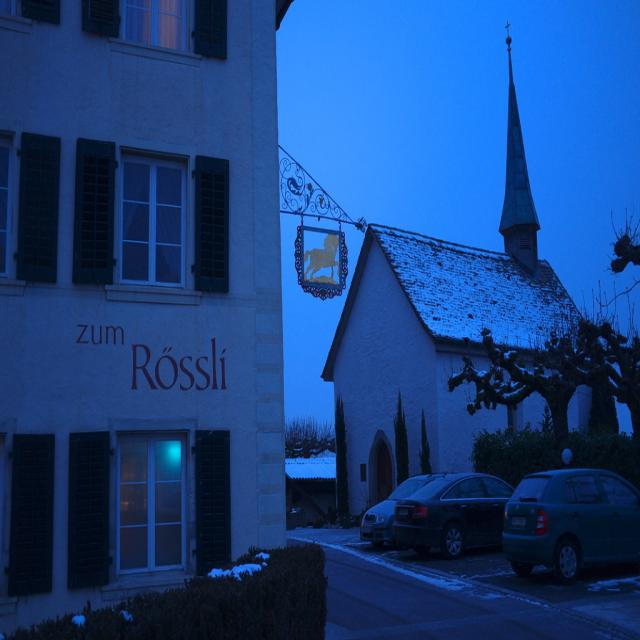car: (500, 466, 628, 593)
